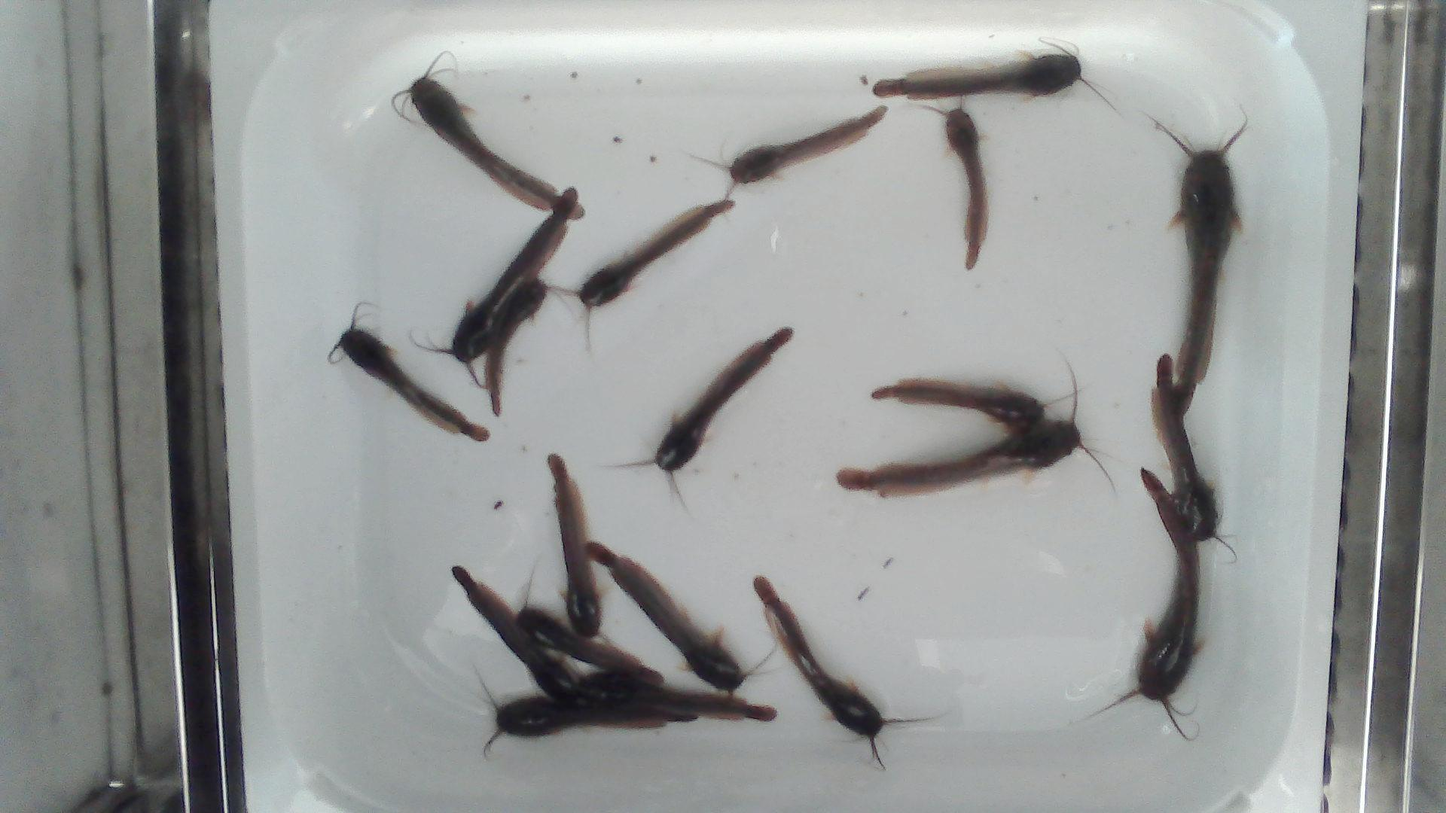lele: (833, 372, 1116, 501), (411, 188, 575, 391), (1087, 469, 1206, 741), (754, 576, 886, 760), (589, 543, 746, 691), (1172, 123, 1246, 412), (408, 75, 561, 209), (654, 328, 792, 472), (333, 327, 490, 441), (450, 566, 578, 704), (576, 199, 732, 306), (513, 585, 668, 685), (1150, 355, 1229, 550), (480, 680, 693, 748), (480, 272, 565, 418), (727, 106, 886, 184), (569, 666, 779, 725), (872, 50, 1081, 99), (869, 376, 1048, 433), (548, 455, 602, 638), (945, 108, 987, 269)
